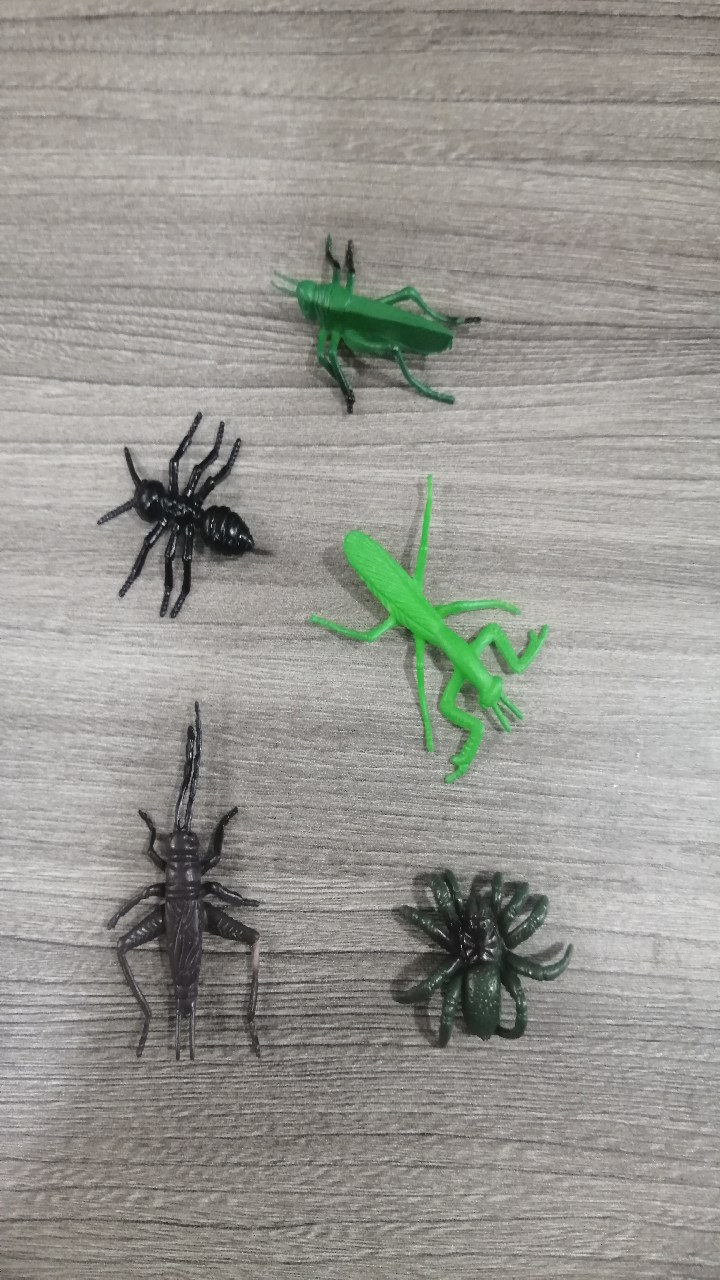intruso: (69, 666, 309, 1085), (288, 442, 563, 791), (243, 194, 494, 449), (355, 806, 588, 1077), (55, 374, 274, 614)
